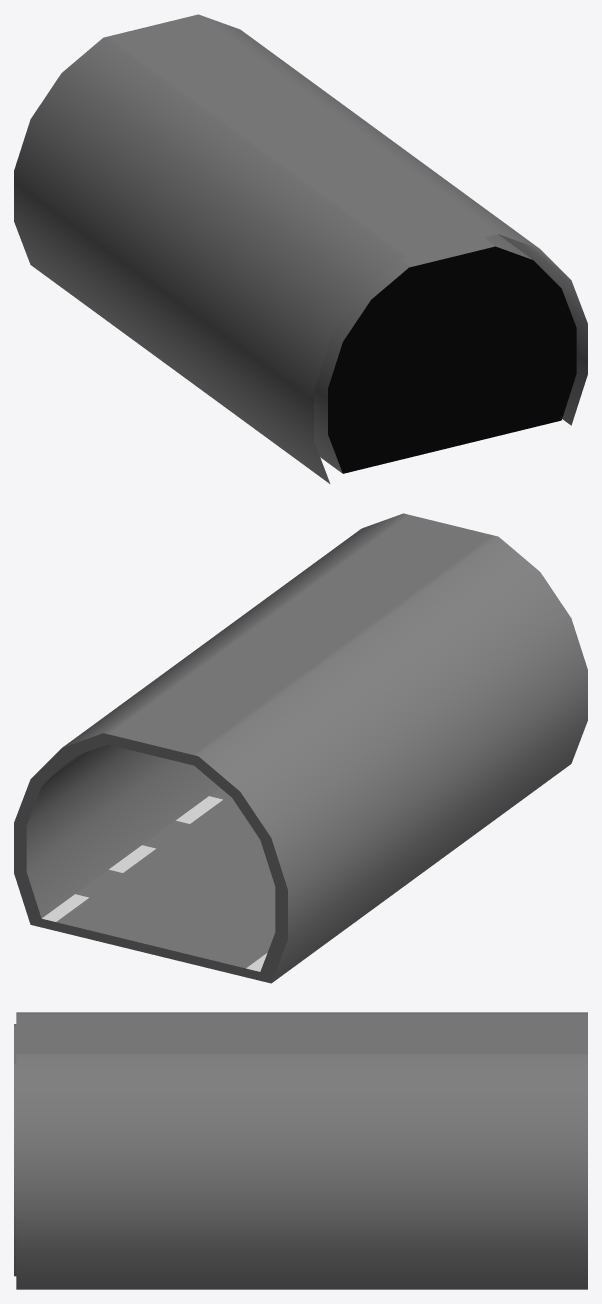
File: Tunnel.fbx
3 renders of one model, top to bottom at view 1: azimuth 30°, elevation 25°; view 2: azimuth 150°, elevation 25°; view 3: azimuth 270°, elevation 25°, orthographic. The views are drawn at different scales.
Visible parts, largest first — view 1: Tunnel; view 2: Tunnel; view 3: Tunnel.
Boxes of the visible parts, x1=… form: Tunnel: x1=14, y1=14, x2=587, y2=483; Tunnel: x1=14, y1=513, x2=587, y2=983; Tunnel: x1=14, y1=1012, x2=587, y2=1289.
Size of the model in its own units: 900 by 658 by 1715.
